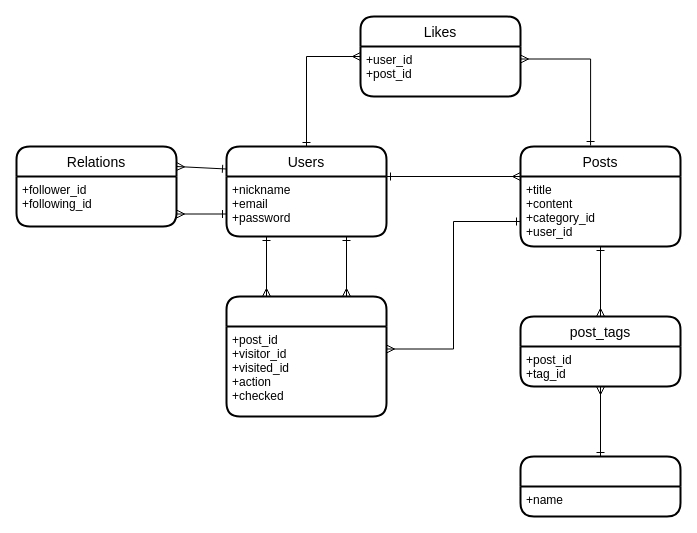
This 697x533 diagram has some shape labels left out. The box of each missing label's shape, as (x1, y1, x2, y2) in pixels:
Notifications: (225, 295, 387, 417)
Tags: (519, 455, 681, 517)
